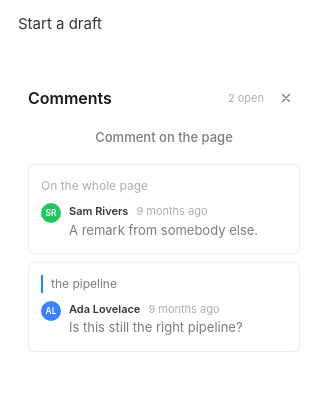
the comments panel › offers Edit on your own comment only, and Delete on anybody as an admin
(page scrolled)
Click the list item that starts with "the pipeline": {"x": 164, "y": 307} [28, 262, 300, 352]
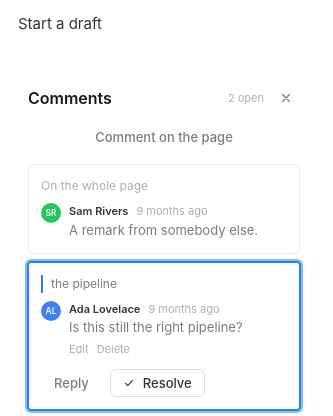
Expected: the button "Edit" is shown, [69, 341, 89, 357]
Expected: the button "Delete" is shown, [97, 341, 130, 357]
Click the list item that starts with "On the whole page": {"x": 164, "y": 209} [28, 164, 300, 254]
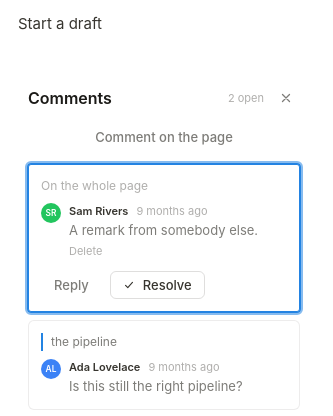
Expected: the text "On the whole page" is shown, [41, 178, 148, 193]
Expected: the button "Delete" is shown, [69, 243, 102, 259]
Expected: the button "Edit" is gone
